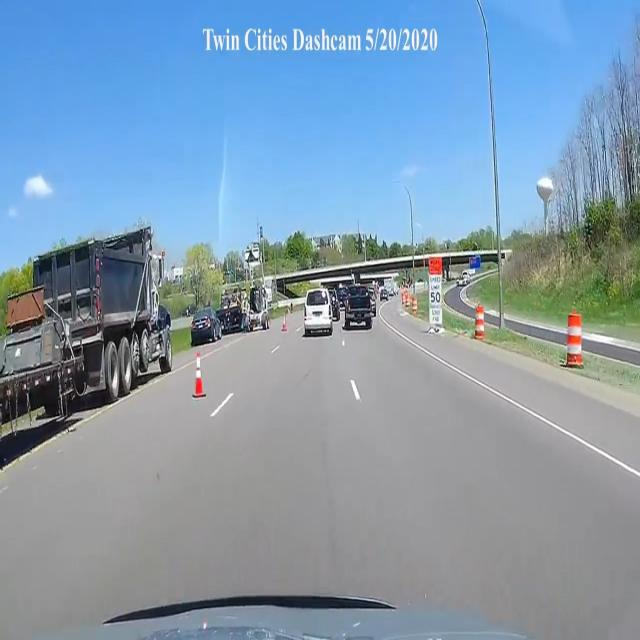cone: (194, 362, 208, 399), (278, 313, 288, 330)
